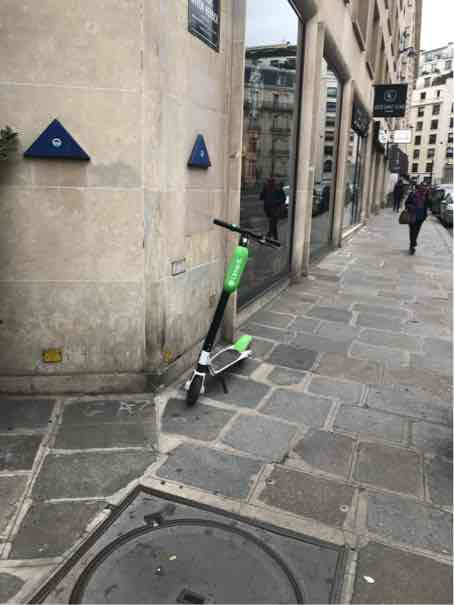scooter: (176, 223, 279, 405)
